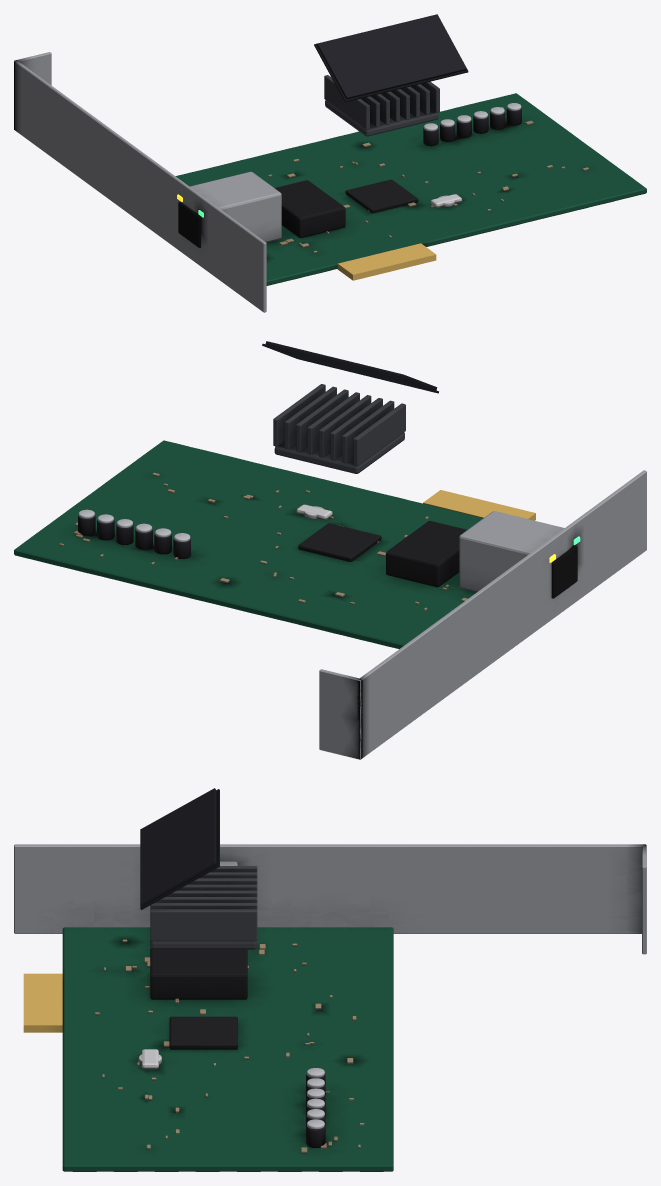
Rendered from nic_open.glb.
3 views of the same model, one above another, from view 1: azimuth 30°, elevation 25°; view 2: azimuth 150°, elevation 25°; view 3: azimuth 270°, elevation 25° (orthographic). The views are drawn at different scales.
Visible parts, largest first — view 1: X_nic_open; view 2: X_nic_open; view 3: X_nic_open.
Boxes of the visible parts, bbox=[...] form: X_nic_open: bbox=[14, 14, 646, 312]; X_nic_open: bbox=[14, 341, 646, 759]; X_nic_open: bbox=[14, 788, 646, 1171].
Bounding box in the file's own units: 0.1216 × 0.0513 × 0.13.
